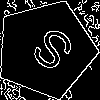S: (20, 24, 78, 82)
